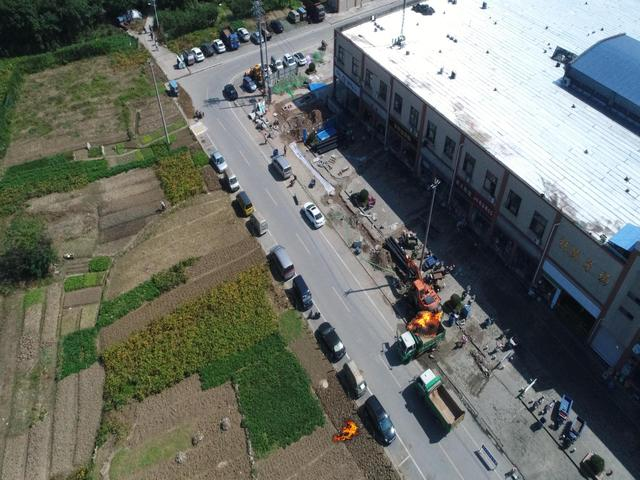fire: (406, 308, 442, 339), (331, 416, 360, 445)
